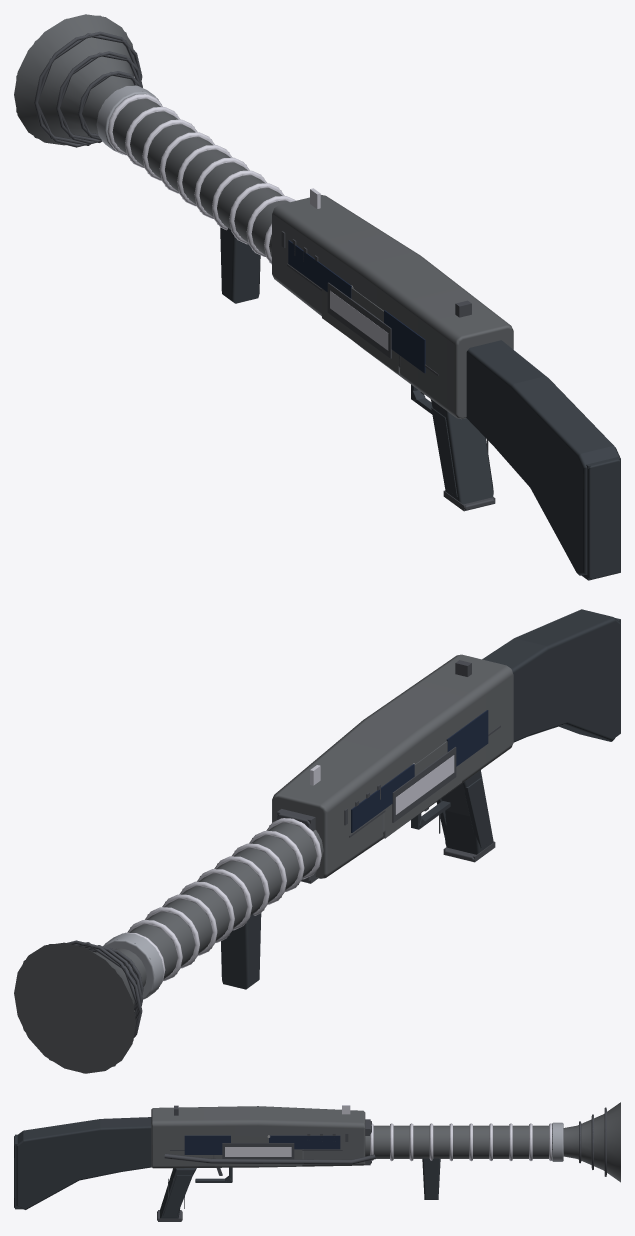
File: x_sonic.glb
3 views of the same model, one above another, from view 1: azimuth 30°, elevation 25°; view 2: azimuth 150°, elevation 25°; view 3: azimuth 270°, elevation 25° (orthographic). The views are drawn at different scales.
Parts seen in each view (by area): view 1: L0, L1; view 2: L0, L1; view 3: L0, L1.
Boxes of the visible parts, box(x1,y1,x2,y2) form: L0: box(14, 14, 620, 579); L1: box(16, 15, 620, 580); L0: box(14, 609, 620, 1073); L1: box(14, 618, 620, 1073); L0: box(14, 1102, 620, 1220); L1: box(15, 1104, 620, 1221).
Size of the model in its own units: 0.138 by 0.2115 by 1.04.
